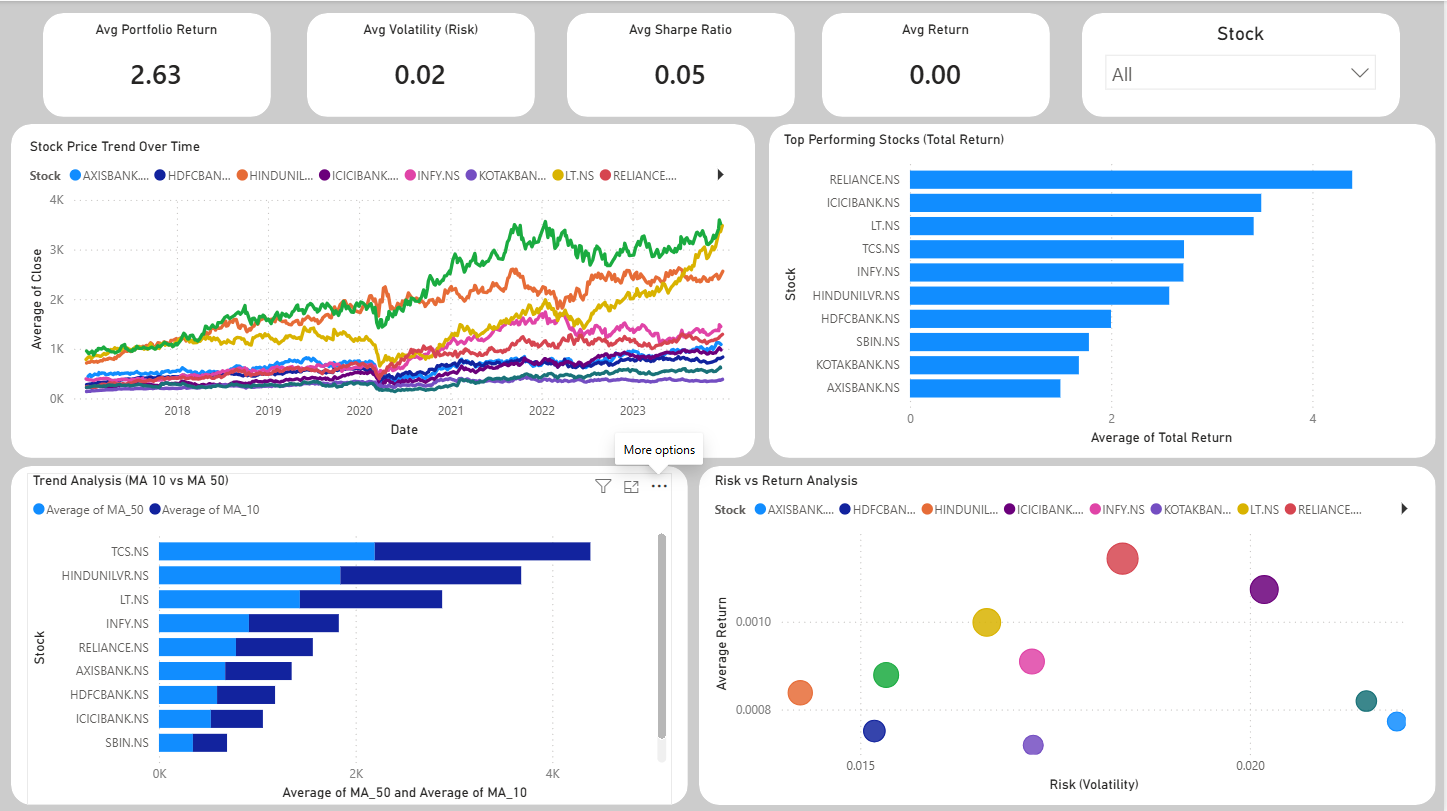

The page's visual inventory and layout, read from the dashboard file:
{"tool":"powerbi","page":{"name":"Page 1","canvas":[1280,720],"ordinal":0},"visuals":[{"type":"shape","box":[619.8,412.3,653.5,300.6],"z":0},{"type":"shape","box":[9.8,412.3,600.3,300.6],"z":1000},{"type":"shape","box":[681.9,109.1,591.4,296.2],"z":2000},{"type":"shape","box":[9.8,109.1,659.7,296.2],"z":3000},{"type":"shape","box":[959.4,10.6,282,92.2],"z":4000},{"type":"shape","box":[728.9,10.6,202.2,92.2],"z":5000},{"type":"shape","box":[502.8,10.6,202.2,92.2],"z":6000},{"type":"shape","box":[272.2,10.6,202.2,92.2],"z":7000},{"type":"shape","box":[38.1,10.6,202.2,92.2],"z":8000},{"type":"cardVisual","title":"Avg Portfolio Return","fields":{"Data":["Avg(portfolio_summary.Total Return)"]},"box":[47,18.6,183.5,74.5],"z":9000},{"type":"cardVisual","title":"Avg Volatility (Risk)","fields":{"Data":["Avg(stock_data_final.Volatility)"]},"box":[281.1,18.6,183.5,74.5],"z":10000},{"type":"cardVisual","title":"Avg Sharpe Ratio","fields":{"Data":["Avg(portfolio_summary.Sharpe Ratio)"]},"box":[511.6,18.6,183.5,74.5],"z":11000},{"type":"cardVisual","title":"Avg Return","fields":{"Data":["Avg(portfolio_summary.Average Return)"]},"box":[737.7,18.6,183.5,74.5],"z":12000},{"type":"barChart","title":"Trend Analysis (MA 10 vs MA 50)","fields":{"Category":["portfolio_summary.Stock"],"Y":["Avg(stock_data_final.MA_50)","Avg(stock_data_final.MA_10)"]},"box":[23.9,418.5,571.9,294.4],"z":13000},{"type":"scatterChart","title":"Risk vs Return Analysis","fields":{"X":["portfolio_summary.Risk (Volatility)"],"Y":["portfolio_summary.Average Return"],"Series":["stock_data_final.Stock"],"Size":["Avg(portfolio_summary.Total Return)"]},"box":[628.7,418.5,635.8,287.3],"z":14000},{"type":"clusteredBarChart","title":"Top Performing Stocks (Total Return)","fields":{"Category":["portfolio_summary.Stock"],"Y":["Avg(portfolio_summary.Total Return)"]},"box":[689.9,116.2,571,282],"z":15000},{"type":"lineChart","title":"Stock Price Trend Over Time","fields":{"Series":["stock_data_final.Stock"],"Category":["stock_data_final.Date"],"Y":["Avg(stock_data_final.Close)"]},"box":[21.3,122.4,636.7,268.7],"z":16000},{"type":"slicer","title":"Stock","fields":{"Values":["stock_data_final.Stock"]},"box":[970,18.6,259.8,72.7],"z":17000}]}

Visuals, with their boxes in screenshot pixels (x1, y1, x2, y2), scaled from the page's 1280x720 canvas onto the 1447x811 screenshot:
shape: [x1=701, y1=464, x2=1439, y2=803]
shape: [x1=11, y1=464, x2=690, y2=803]
shape: [x1=771, y1=123, x2=1439, y2=457]
shape: [x1=11, y1=123, x2=757, y2=457]
shape: [x1=1085, y1=12, x2=1403, y2=116]
shape: [x1=824, y1=12, x2=1053, y2=116]
shape: [x1=568, y1=12, x2=797, y2=116]
shape: [x1=308, y1=12, x2=536, y2=116]
shape: [x1=43, y1=12, x2=272, y2=116]
"Avg Portfolio Return" cardVisual: [x1=53, y1=21, x2=261, y2=105]
"Avg Volatility (Risk)" cardVisual: [x1=318, y1=21, x2=525, y2=105]
"Avg Sharpe Ratio" cardVisual: [x1=578, y1=21, x2=786, y2=105]
"Avg Return" cardVisual: [x1=834, y1=21, x2=1041, y2=105]
"Trend Analysis (MA 10 vs MA 50)" barChart: [x1=27, y1=471, x2=674, y2=803]
"Risk vs Return Analysis" scatterChart: [x1=711, y1=471, x2=1429, y2=795]
"Top Performing Stocks (Total Return)" clusteredBarChart: [x1=780, y1=131, x2=1425, y2=449]
"Stock Price Trend Over Time" lineChart: [x1=24, y1=138, x2=744, y2=441]
"Stock" slicer: [x1=1097, y1=21, x2=1390, y2=103]
